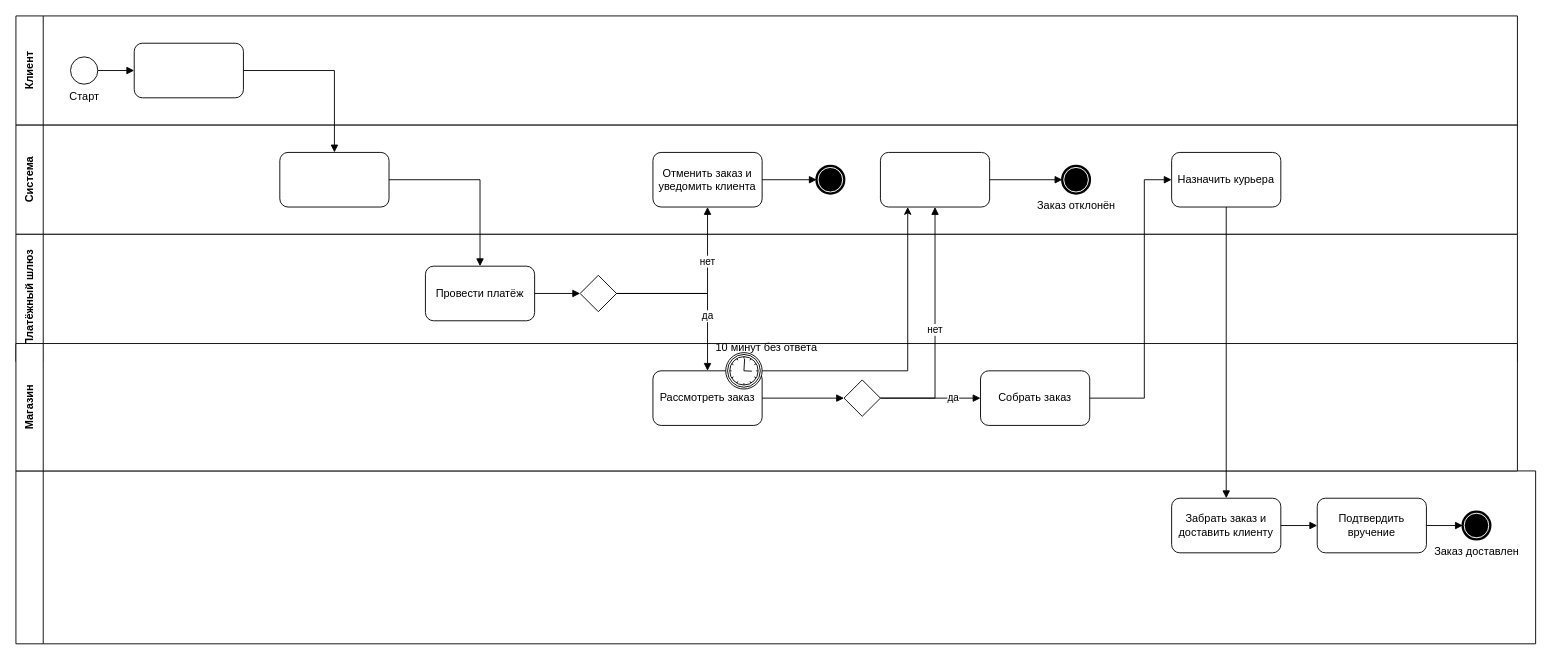
This 1552x660 diagram has some shape labels left out. The shapes that lost their labels are listed below. From the top down, each one's box as (x1, y1, x2, y2) in pixels, then its label:
(133, 42, 243, 98): Оформить заказ
(279, 152, 389, 207): Создать заказ и запросить оплату
(816, 165, 844, 193): Заказ отменён
(880, 152, 990, 207): Вернуть деньги и уведомить клиента
(579, 274, 617, 312): Оплата прошла?
(843, 379, 880, 416): Магазин принял заказ?
(15, 470, 1536, 644): Курьер
